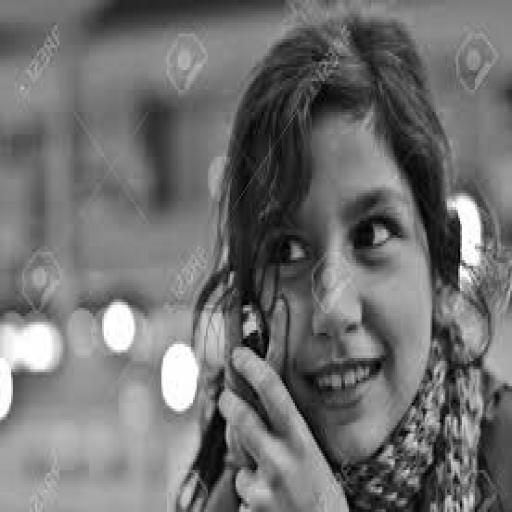calling: (167, 11, 510, 509)
